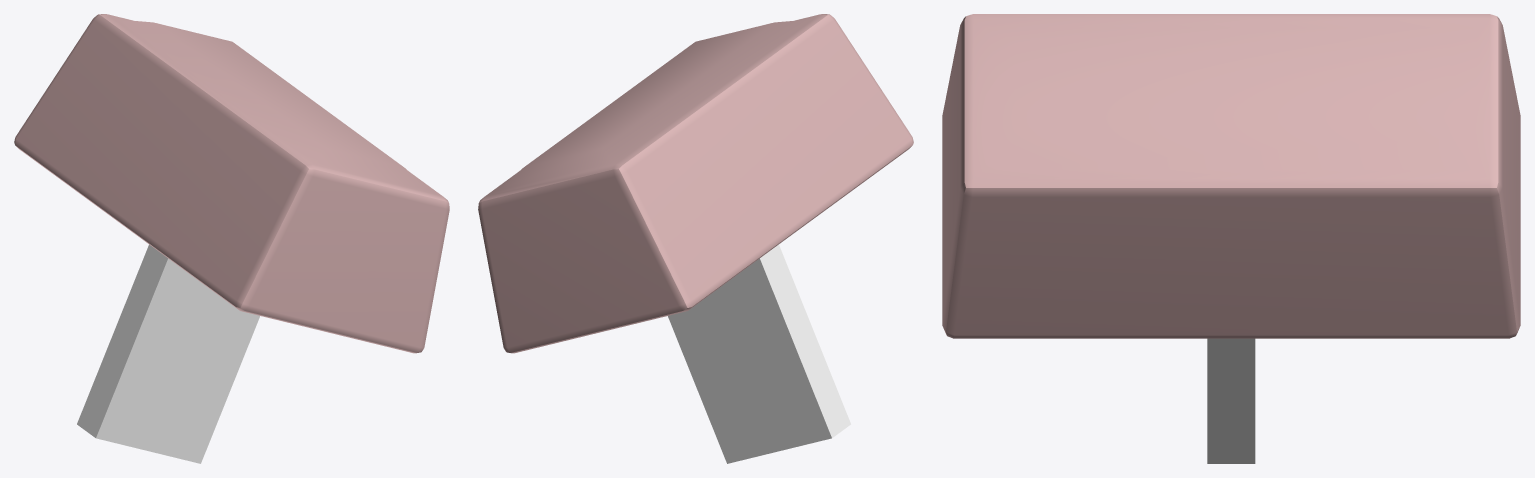
The model's file is fbxSlider.fbx.
3 renders of one model, left to right at view 1: azimuth 30°, elevation 25°; view 2: azimuth 150°, elevation 25°; view 3: azimuth 270°, elevation 25°, orthographic. The views are drawn at different scales.
Parts seen in each view (by area): view 1: Slider; view 2: Slider; view 3: Slider.
Part boxes in pixels (bbox=[...]): Slider: bbox=[14, 14, 449, 463]; Slider: bbox=[478, 14, 913, 463]; Slider: bbox=[942, 14, 1520, 463].
Size of the model in its own units: 2.99 by 4.01 by 4.6.
